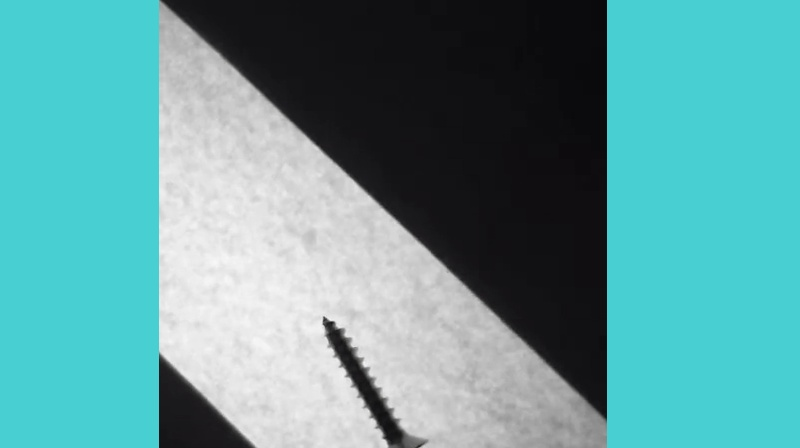S001: (319, 312, 432, 447)
